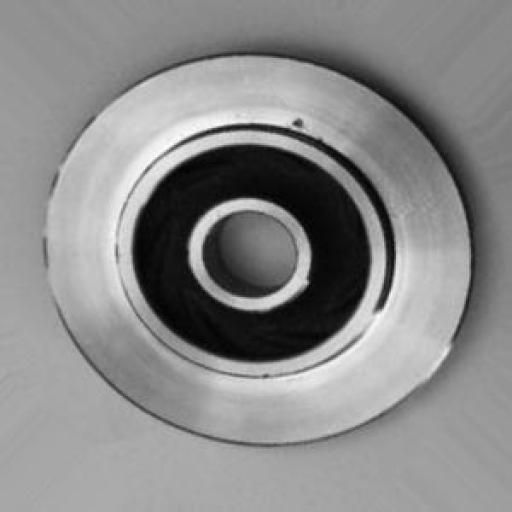defect: (272, 103, 352, 168)
